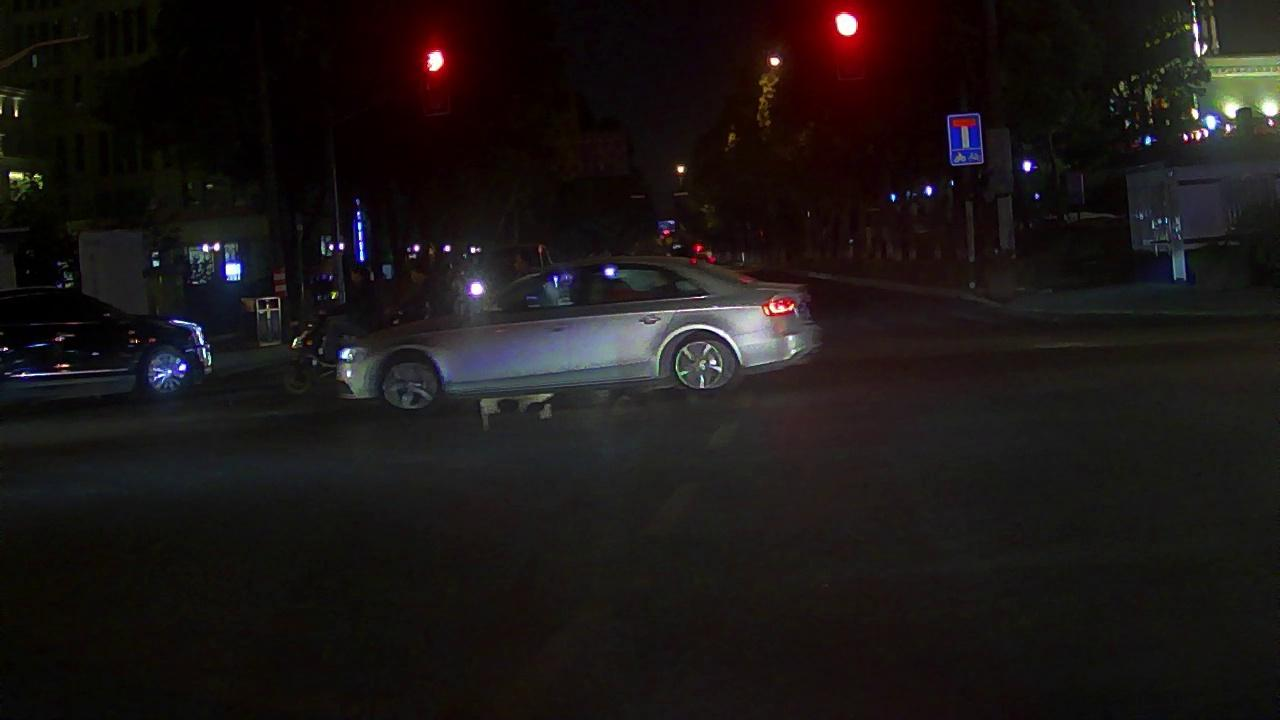traffic_light: (831, 7, 864, 77), (423, 48, 447, 108)
